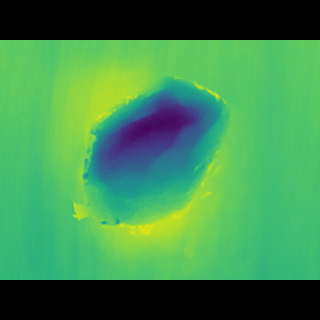Loch: (65, 92, 238, 242)
